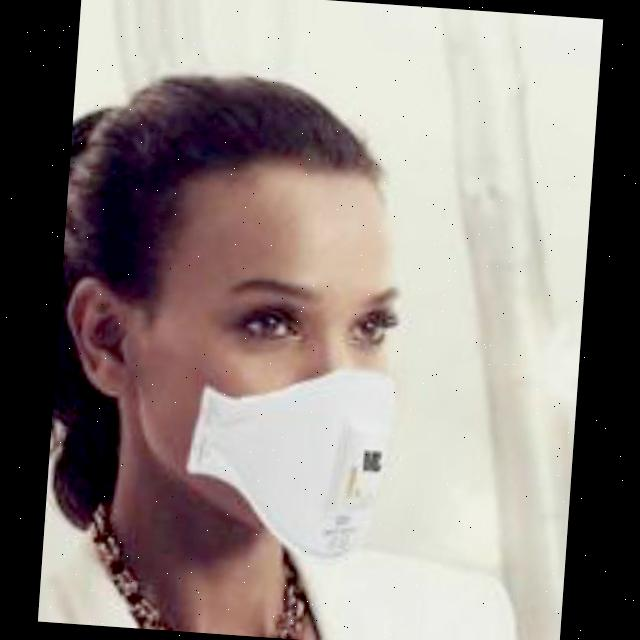suspicion: (128, 140, 430, 548)
